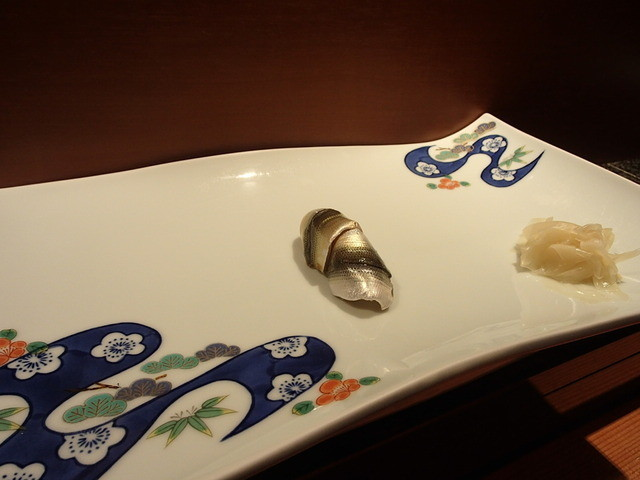spotted-shad: (296, 204, 397, 318)
